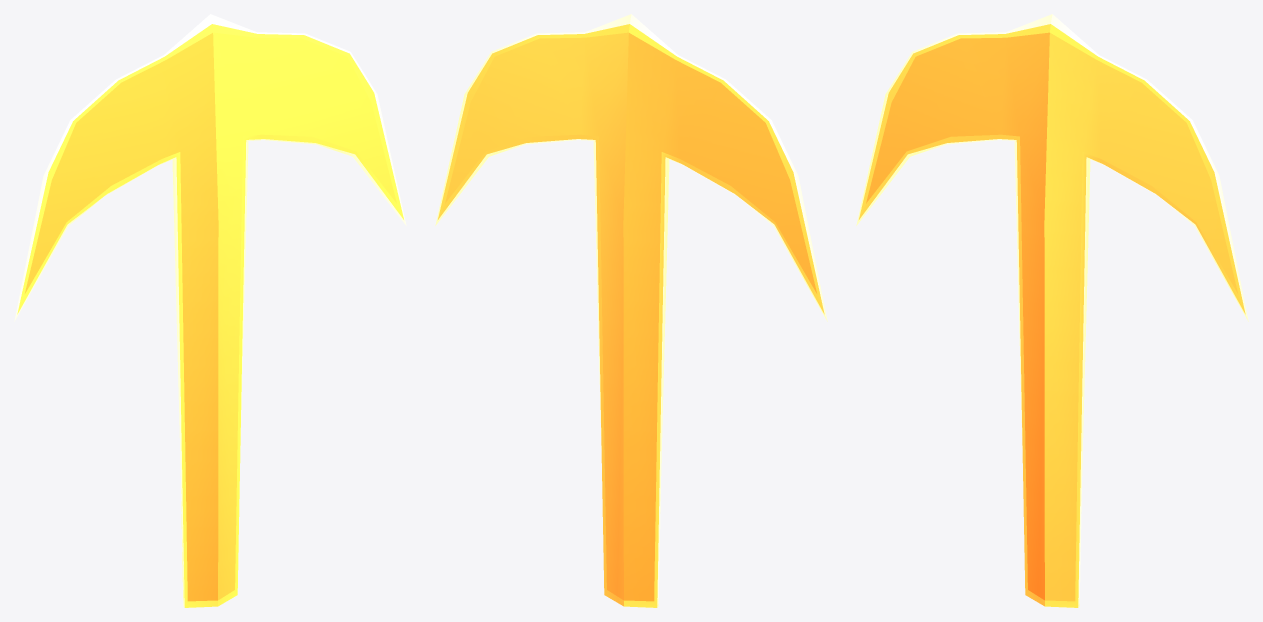
Rendered from gold_blade (8).glb.
3 views of the same model, side by side, from view 1: azimuth 30°, elevation 25°; view 2: azimuth 150°, elevation 25°; view 3: azimuth 330°, elevation 25° (orthographic).
Parts seen in each view (by area): view 1: gold_blade_steel.029; view 2: gold_blade_steel.029; view 3: gold_blade_steel.029.
Part boxes in pixels (box(x1,y1,x2,y2)): gold_blade_steel.029: box(14, 14, 406, 607); gold_blade_steel.029: box(435, 14, 827, 607); gold_blade_steel.029: box(856, 14, 1248, 607).
Size of the model in its own units: 8.24 by 11.78 by 0.5834.
1 material, 1 textured.
